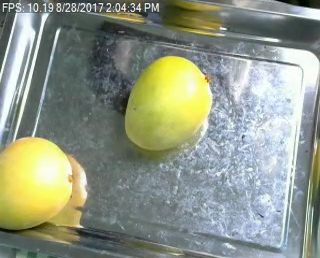Mango: (121, 52, 214, 149), (0, 132, 79, 238)
